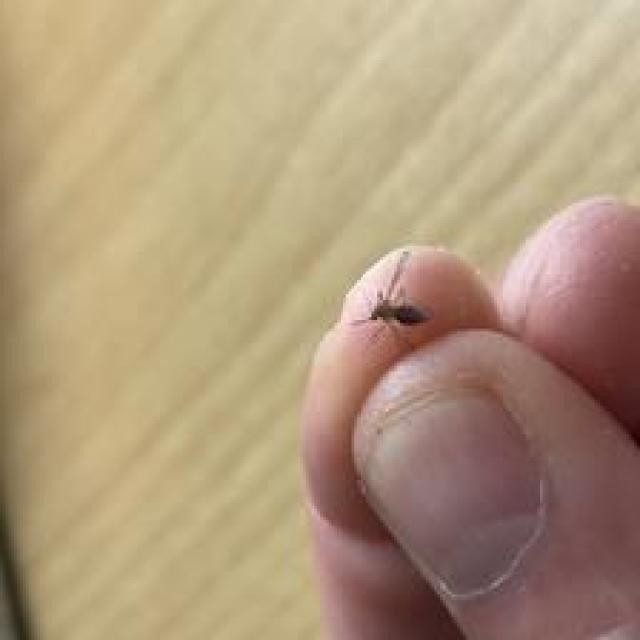Culex: (350, 248, 433, 332)
